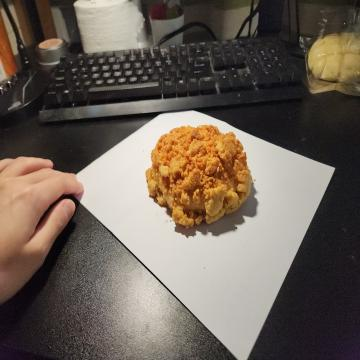soboru_bread: (144, 123, 254, 229)
